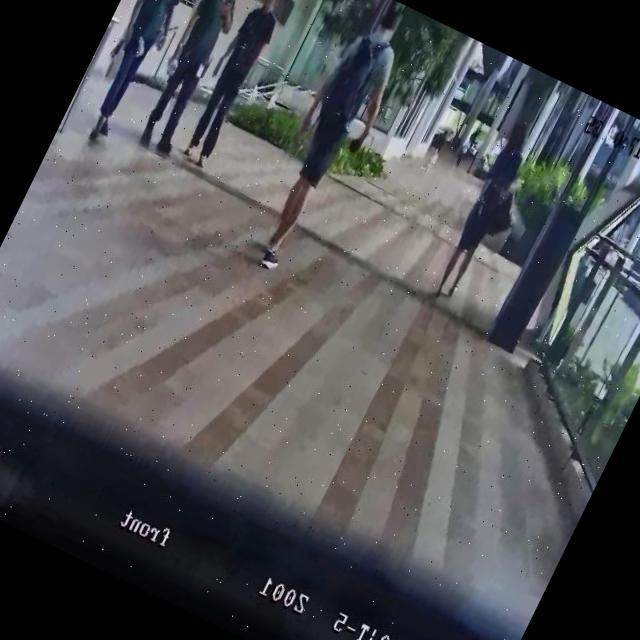person: (237, 0, 426, 283), (172, 0, 295, 171), (429, 115, 540, 303), (71, 0, 211, 149), (130, 0, 261, 158), (416, 125, 450, 177), (452, 130, 477, 168)
